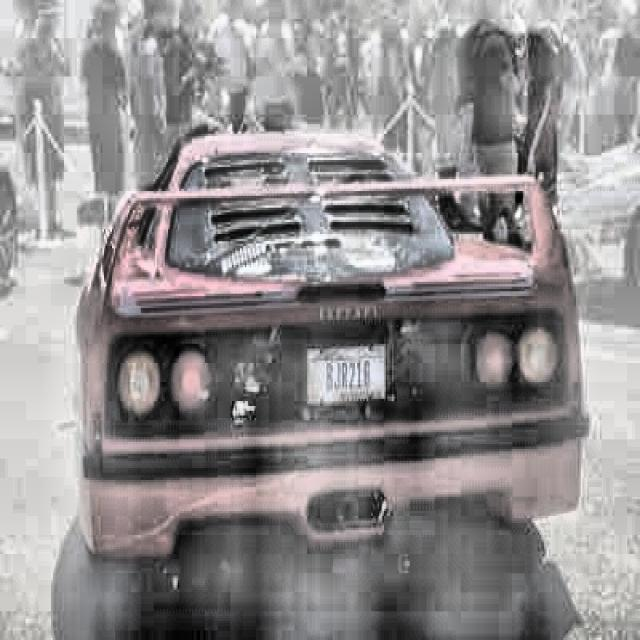license_plate: (309, 347, 389, 413)
